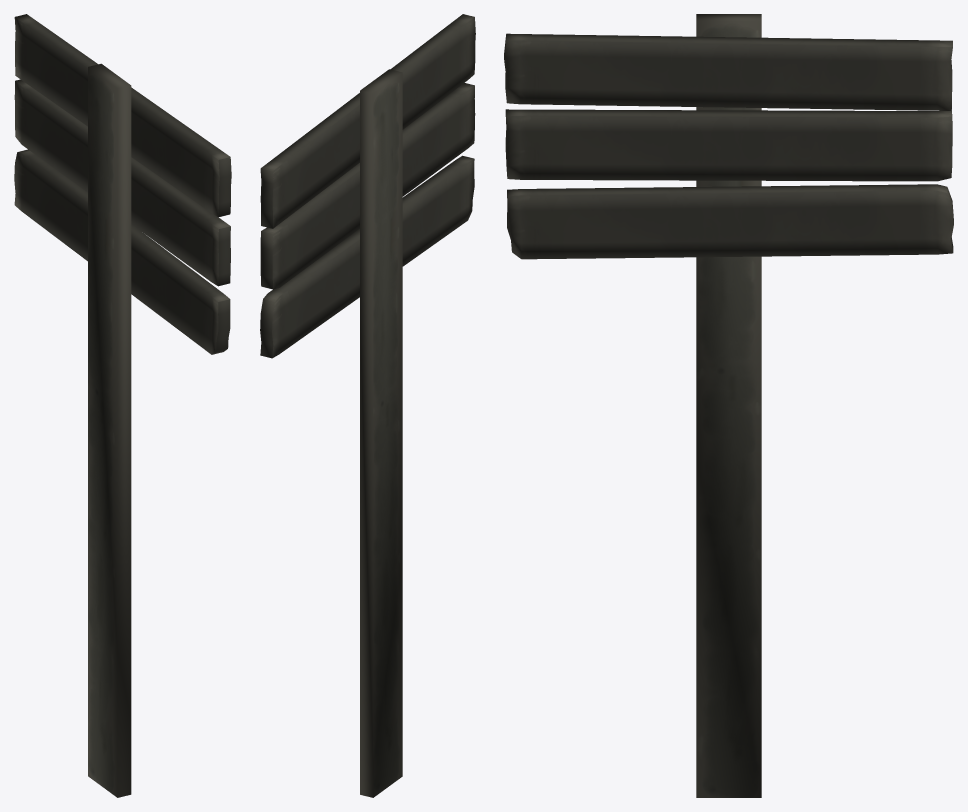
The model's file is WoodSign.fbx.
3 views of the same model, side by side, from view 1: azimuth 30°, elevation 25°; view 2: azimuth 150°, elevation 25°; view 3: azimuth 270°, elevation 25° (orthographic). The views are drawn at different scales.
Visible parts, largest first — view 1: Cube, Cube.001, Cube.003, Cube.002; view 2: Cube, Cube.001, Cube.003, Cube.002; view 3: Cube, Cube.001, Cube.002, Cube.003.
Part boxes in pixels (left/top/right/bottom): Cube: left=88, top=63, right=131, bottom=797; Cube.001: left=14, top=14, right=231, bottom=217; Cube.003: left=14, top=149, right=230, bottom=354; Cube.002: left=14, top=79, right=230, bottom=286; Cube: left=360, top=69, right=402, bottom=797; Cube.001: left=260, top=14, right=475, bottom=228; Cube.003: left=260, top=155, right=474, bottom=358; Cube.002: left=260, top=83, right=475, bottom=289; Cube: left=696, top=14, right=761, bottom=797; Cube.001: left=504, top=33, right=952, bottom=110; Cube.002: left=505, top=109, right=952, bottom=181; Cube.003: left=507, top=184, right=953, bottom=259.
Bounding box in the file's own units: 27.14 × 701 × 368.
2 materials, 2 textured.
